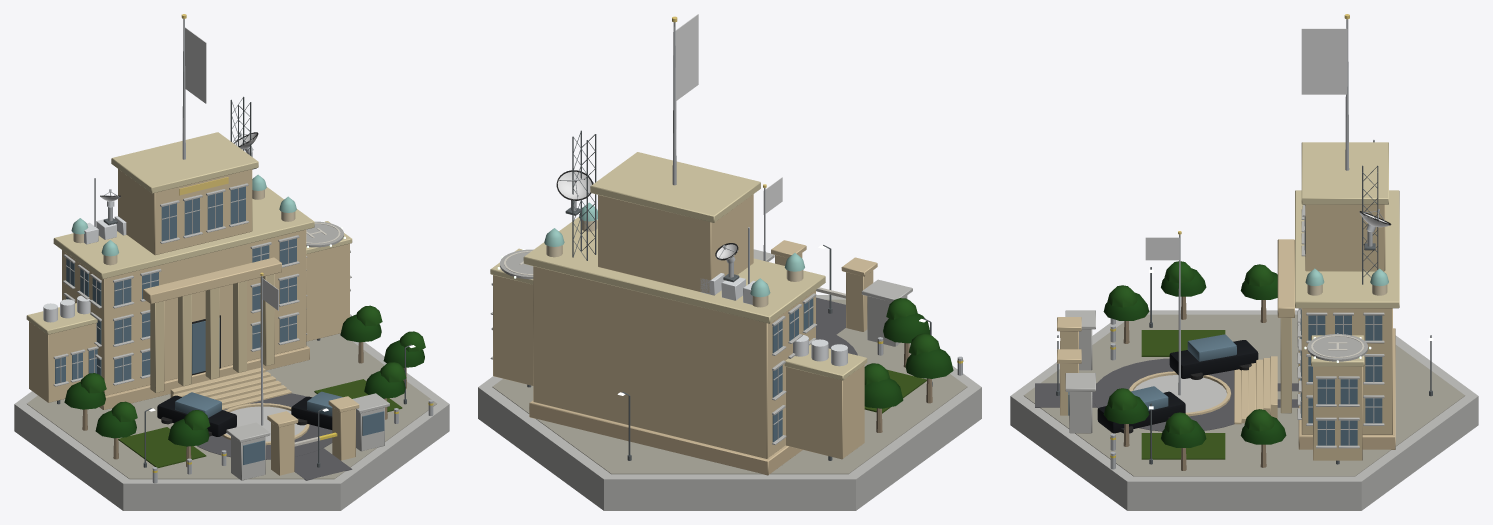
The model's file is hq_arab.glb.
3 renders of one model, left to right at view 1: azimuth 30°, elevation 25°; view 2: azimuth 150°, elevation 25°; view 3: azimuth 270°, elevation 25°, orthographic. The views are drawn at different scales.
Parts seen in each view (by area): view 1: stone, wall_concrete, pavers, glass, leaf, asphalt, turf, paint, banner, cladding, metal, steel_dark (+3 smaller); view 2: stone, wall_concrete, pavers, leaf, banner, cladding, steel_dark, metal, glass, asphalt, paint, copper (+2 smaller); view 3: stone, wall_concrete, pavers, leaf, glass, banner, asphalt, paint, turf, metal, steel_dark, wood.
Boxes of the visible parts, x1,y1,x2,y2 form: stone: [26, 132, 359, 475]; wall_concrete: [14, 183, 449, 510]; pavers: [27, 333, 436, 479]; glass: [55, 186, 384, 464]; leaf: [64, 305, 425, 446]; asphalt: [197, 393, 352, 480]; turf: [118, 379, 402, 468]; paint: [100, 133, 340, 446]; banner: [185, 27, 278, 310]; cladding: [43, 216, 126, 322]; metal: [94, 19, 433, 483]; steel_dark: [57, 96, 411, 467]; stone: [490, 152, 877, 475]; wall_concrete: [478, 249, 981, 510]; pavers: [492, 299, 967, 474]; leaf: [864, 298, 953, 408]; banner: [673, 14, 782, 214]; cladding: [700, 273, 847, 366]; steel_dark: [527, 130, 932, 460]; metal: [559, 22, 962, 375]; glass: [772, 298, 813, 442]; asphalt: [816, 297, 857, 355]; paint: [504, 171, 845, 298]; copper: [544, 202, 804, 297]; stone: [1057, 142, 1399, 460]; wall_concrete: [1010, 204, 1478, 510]; pavers: [1023, 314, 1465, 476]; leaf: [1103, 261, 1286, 447]; glass: [1068, 205, 1382, 445]; banner: [1145, 28, 1347, 260]; asphalt: [1035, 358, 1298, 431]; paint: [1097, 211, 1391, 433]; turf: [1141, 330, 1225, 459]; metal: [1110, 19, 1385, 469]; steel_dark: [1056, 165, 1432, 464]; wood: [1123, 296, 1266, 470].
Bounding box in the file's own units: 21.3 × 23.78 × 24.6.
